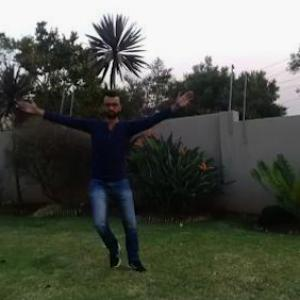takeoff: (13, 84, 194, 264)
